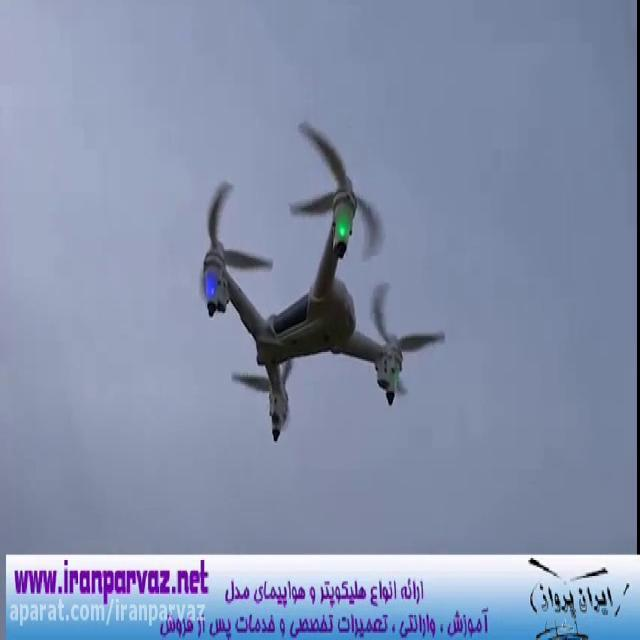drone: (186, 109, 451, 454)
